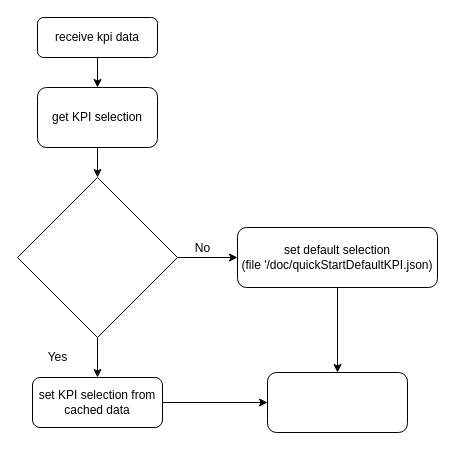
The diagram is 455 pixels wide and 450 high, and some of its shapes have lost their labels. Here are the shapes that lost their labels. From the top down, the centre of each, then its label:
At (x=97, y=257): "Cache in localStorage".
At (x=337, y=402): "Update criteria configs".
